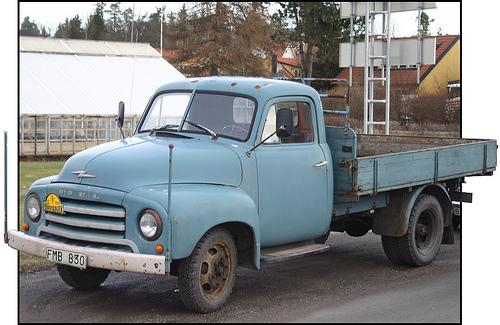truck: (3, 74, 498, 314)
